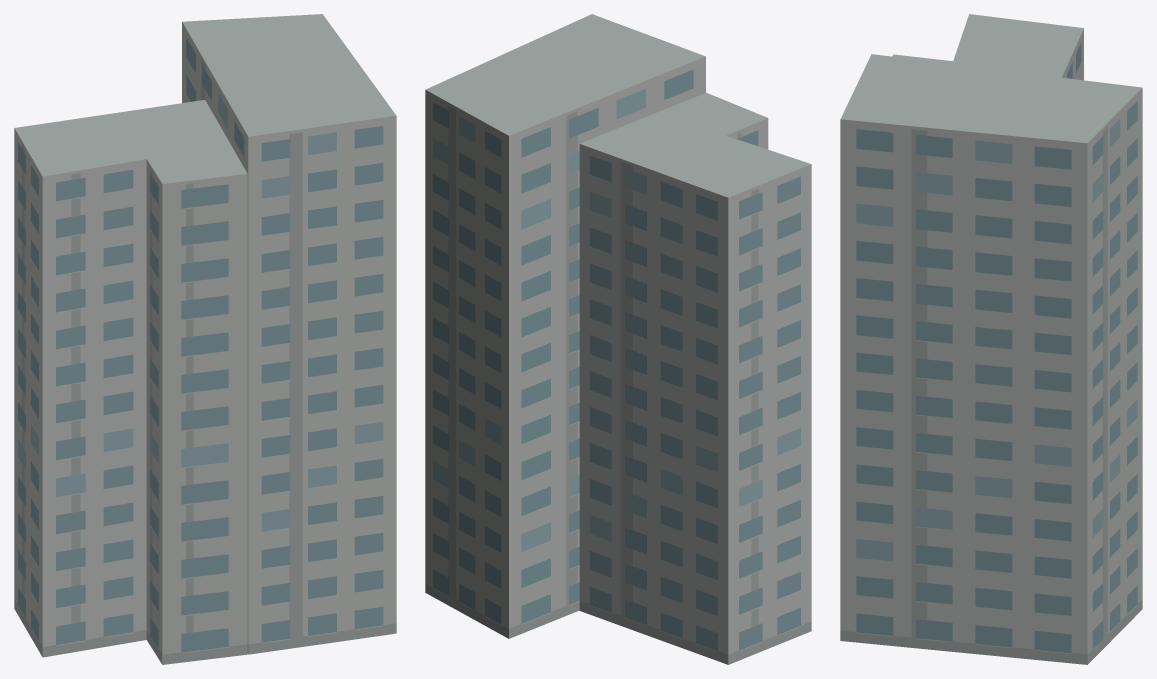
File: residential-ed2c0616-23fc-4ed7-9f82-cddda5a31417.glb
3 renders of one model, left to right at view 1: azimuth 30°, elevation 25°; view 2: azimuth 150°, elevation 25°; view 3: azimuth 270°, elevation 25°, orthographic. The views are drawn at different scales.
Parts seen in each view (by area): view 1: residential-ed2c0616-23fc-4ed7-9f82-cddda5a31417.tmp; view 2: residential-ed2c0616-23fc-4ed7-9f82-cddda5a31417.tmp; view 3: residential-ed2c0616-23fc-4ed7-9f82-cddda5a31417.tmp.
Part boxes in pixels (x1=…): residential-ed2c0616-23fc-4ed7-9f82-cddda5a31417.tmp: x1=14, y1=14, x2=396, y2=664; residential-ed2c0616-23fc-4ed7-9f82-cddda5a31417.tmp: x1=425, y1=14, x2=811, y2=664; residential-ed2c0616-23fc-4ed7-9f82-cddda5a31417.tmp: x1=840, y1=14, x2=1142, y2=664.
Size of the model in its own units: 29.25 by 42.7 by 22.42.
